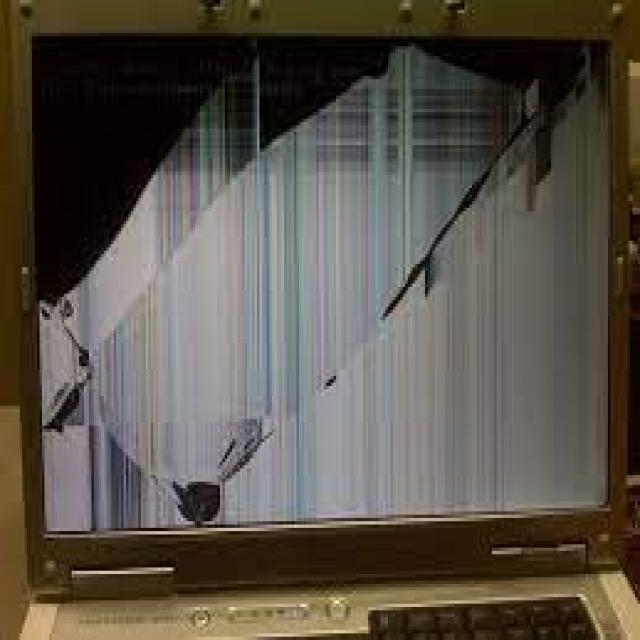Screen cracks: (27, 40, 615, 534)
